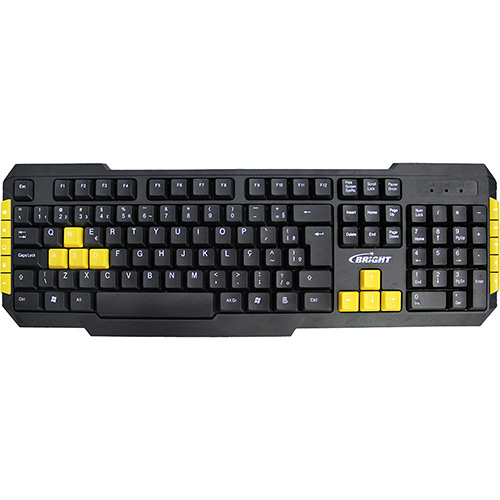keyboard: (1, 160, 500, 337)
